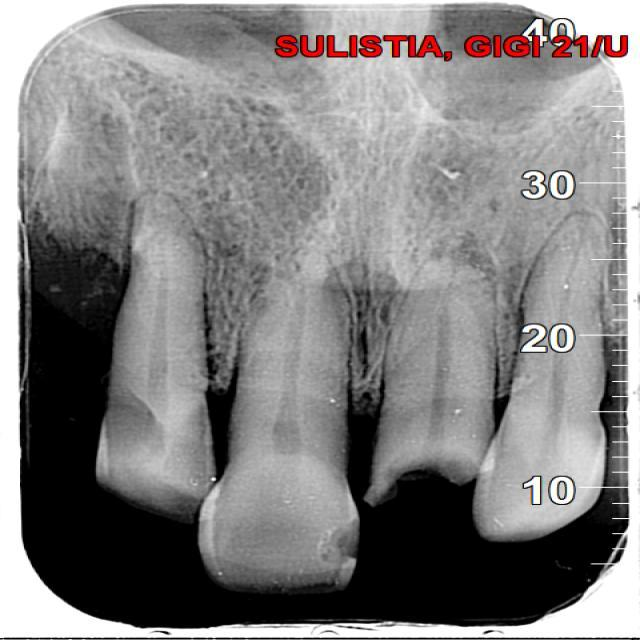individual-tooth-8tto: (198, 247, 357, 592), (95, 192, 221, 520), (368, 254, 497, 500)
